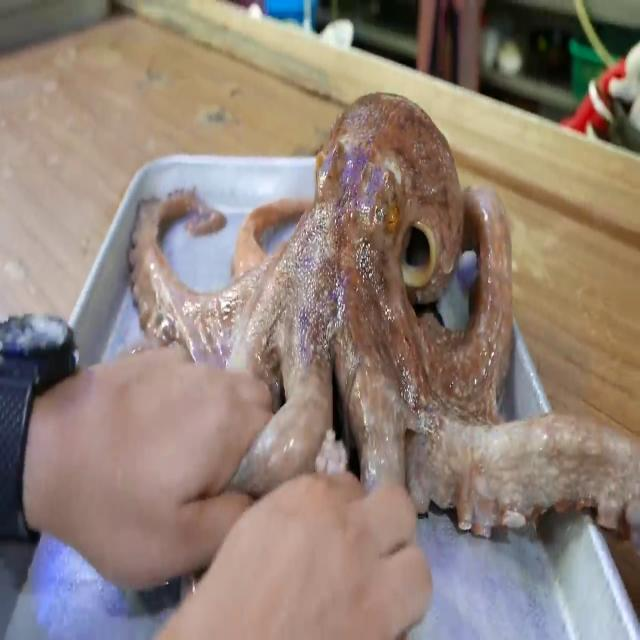octopus: (126, 82, 640, 560)
